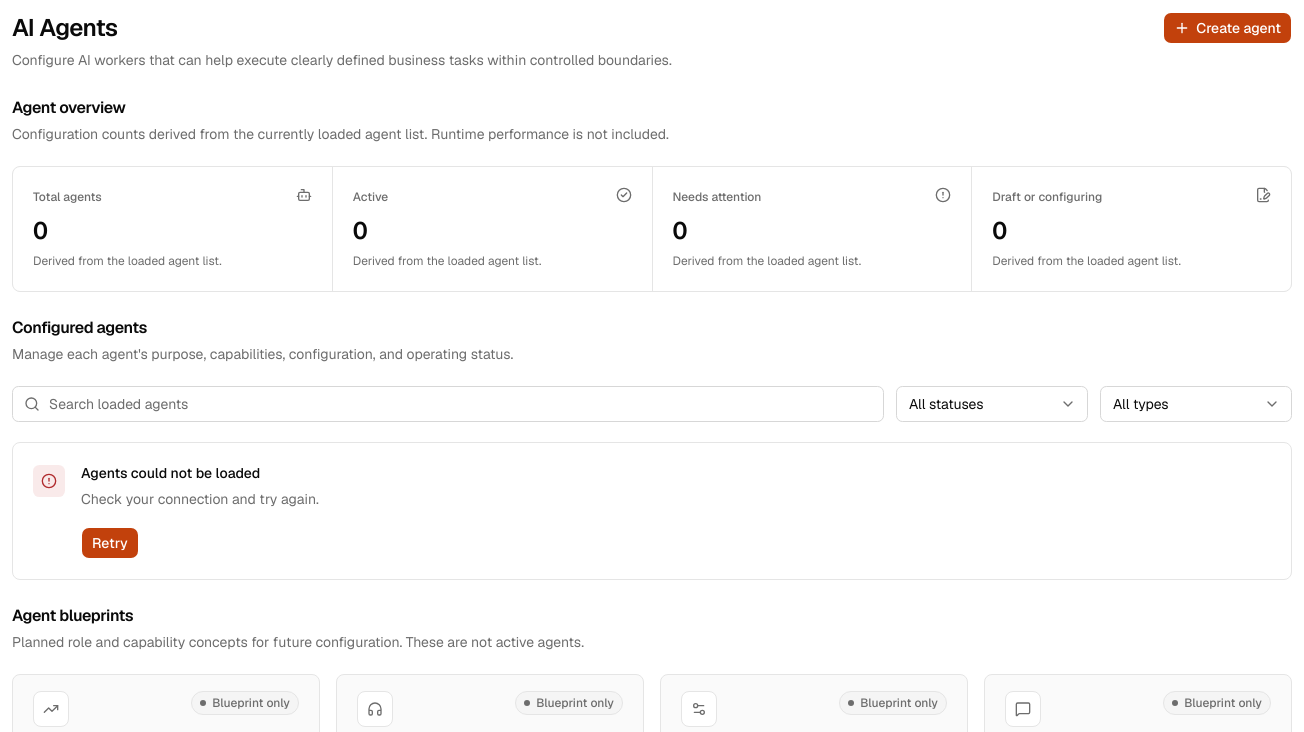
it: AI Agents page › shows an API error and retries
Expected: the heading "Agents could not be loaded" is shown, left=81, top=464, right=260, bottom=482
Click the button "Retry" at (110, 543), box left=81, top=527, right=139, bottom=559
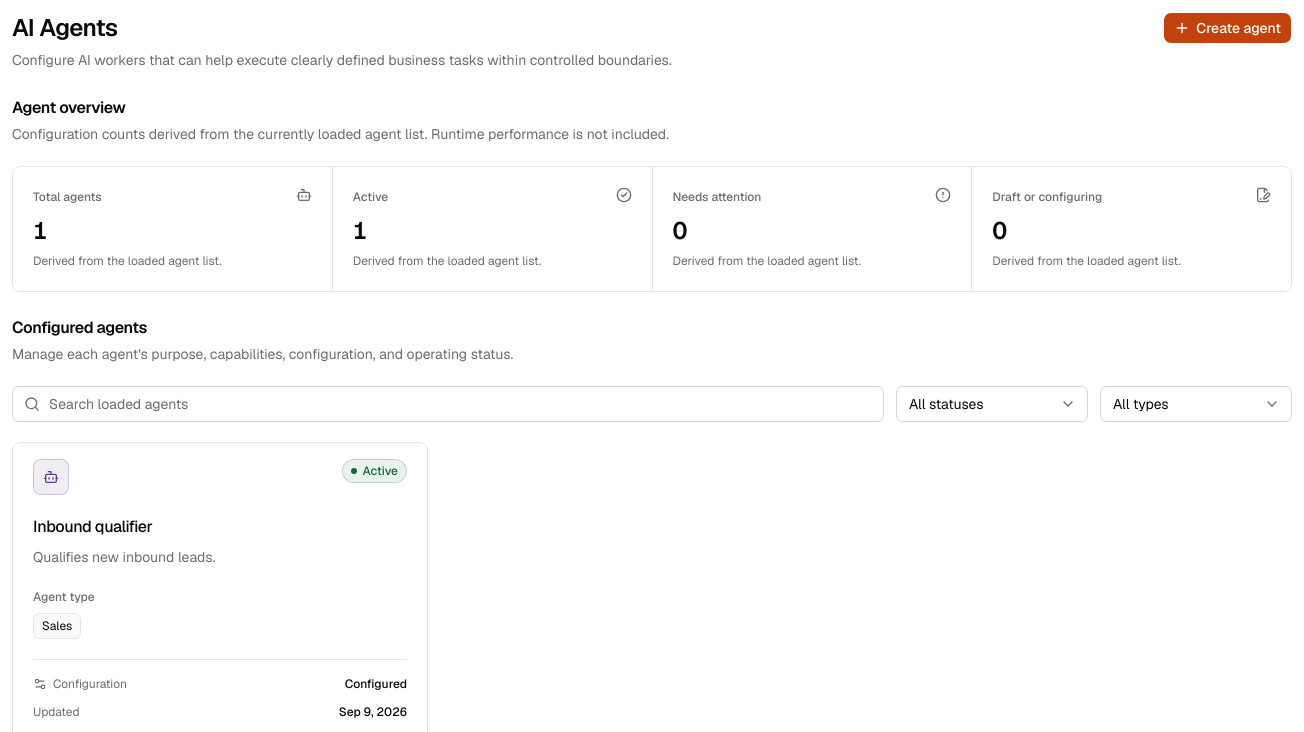
Result: the heading "Inbound qualifier" is shown at left=33, top=516, right=152, bottom=537
